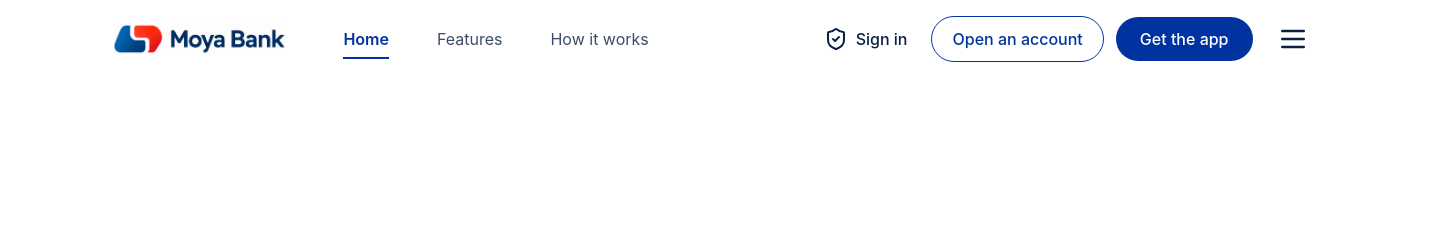
Scenario: Header › opens and closes the menu
Click the button named "open menu": {"x": 1292, "y": 39} x1=1272 y1=19 x2=1312 y2=59
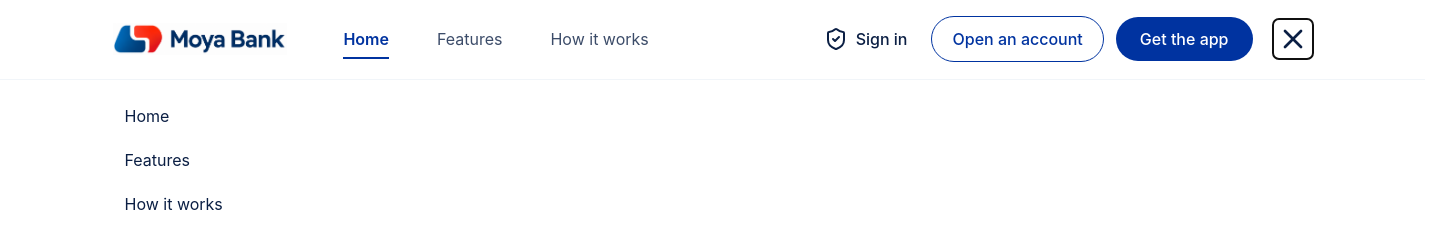
Check: the button named "close menu" is expanded
Click the button named "close menu": {"x": 1292, "y": 39} x1=1272 y1=19 x2=1312 y2=59
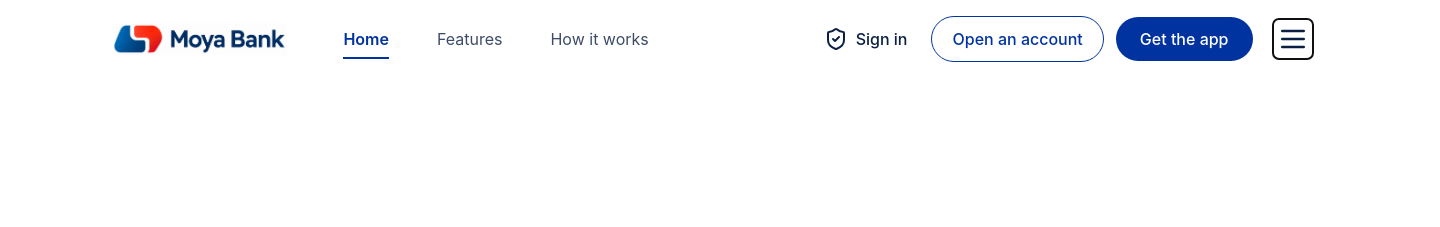
Check: the button named "open menu" is collapsed, box x1=1272 y1=19 x2=1312 y2=59
